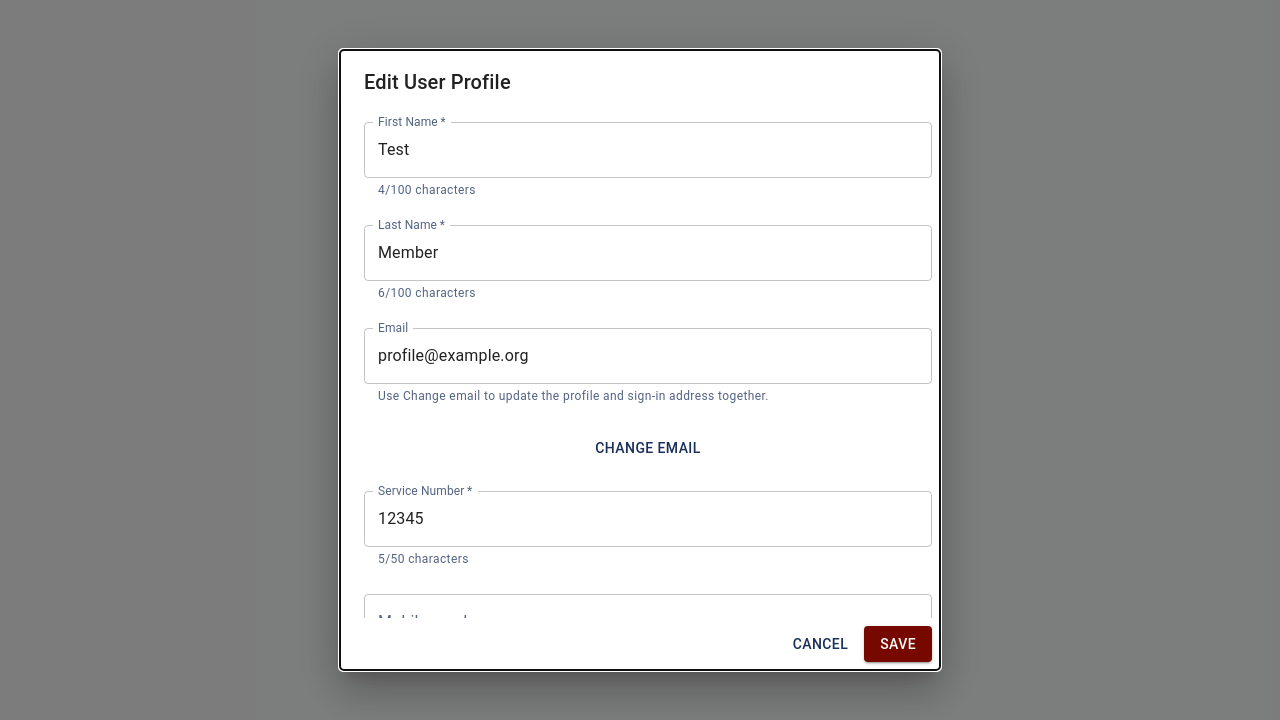
Test case: EditUserDialog email integration › uses the Auth address for conflict detection and refreshes the profile after changing it
Expected: the field showing "profile@example.org" is shown, [364,328,932,384]
Click the button "Change email".
click(648, 449)  # box [364,430,932,467]
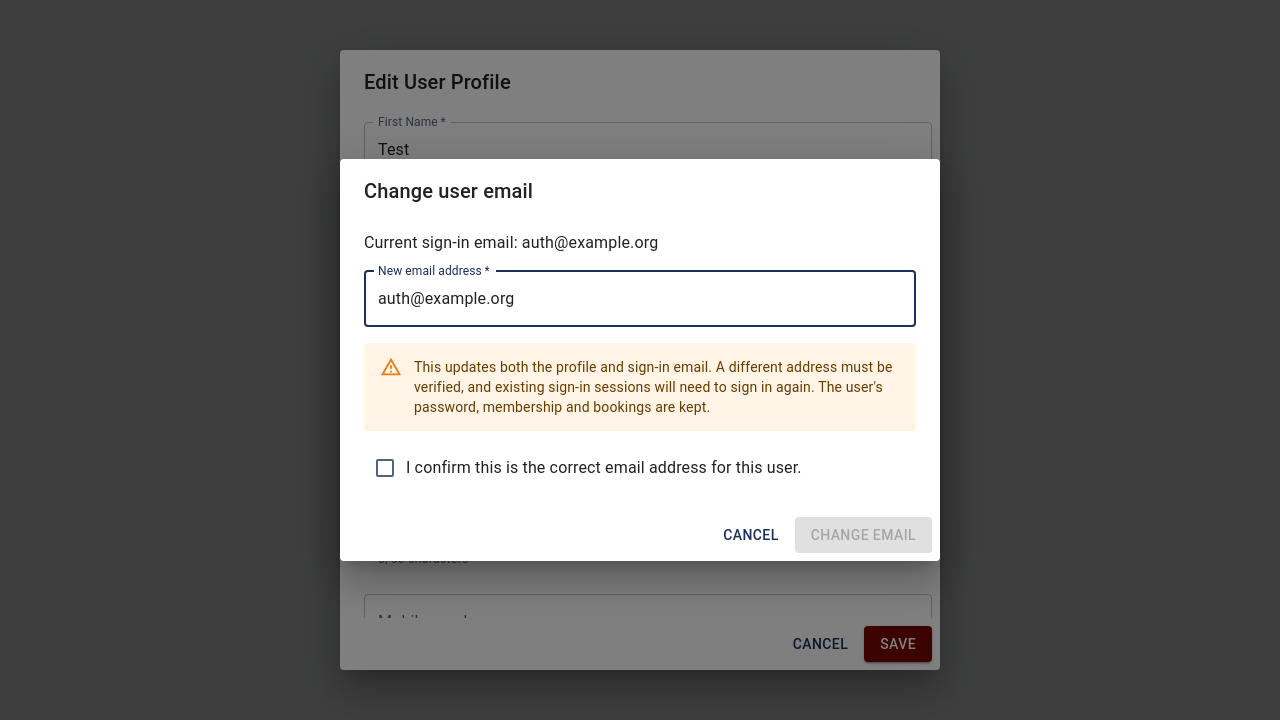
Expected: the text "Current sign-in email: auth@example.org" is shown, [364,233,658,252]
Replace the text in the field labelled "New email address *" with "new@example.org" at coordinates (640, 299), box [364,271,916,327]
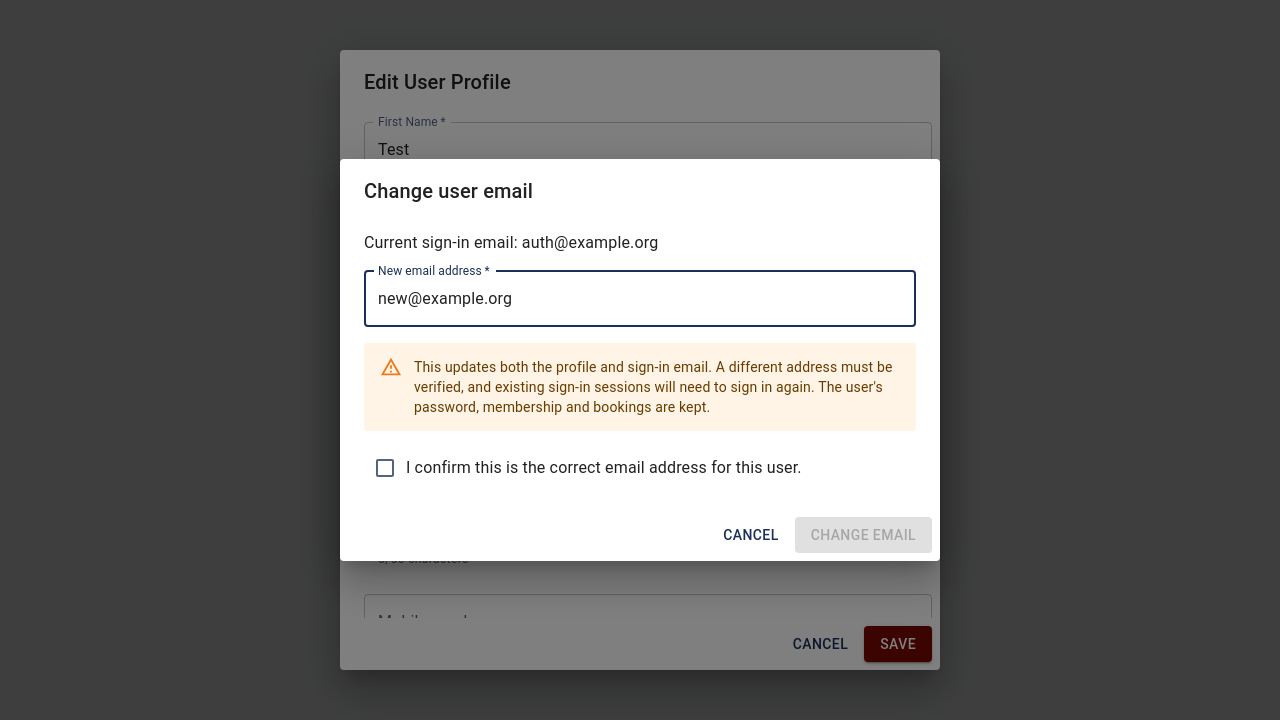
Click the checkbox.
click(587, 468)  # box [373,456,802,480]
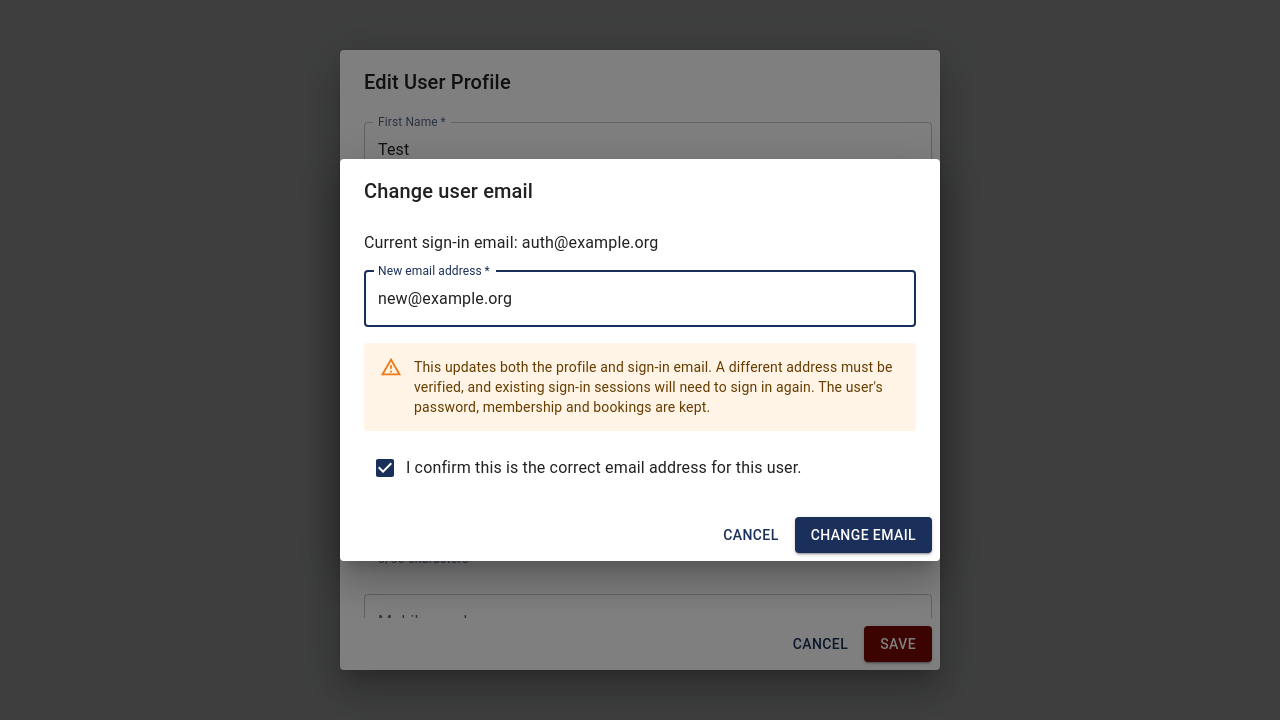
Click the button "Change email".
click(863, 535)  # box [795,517,932,553]
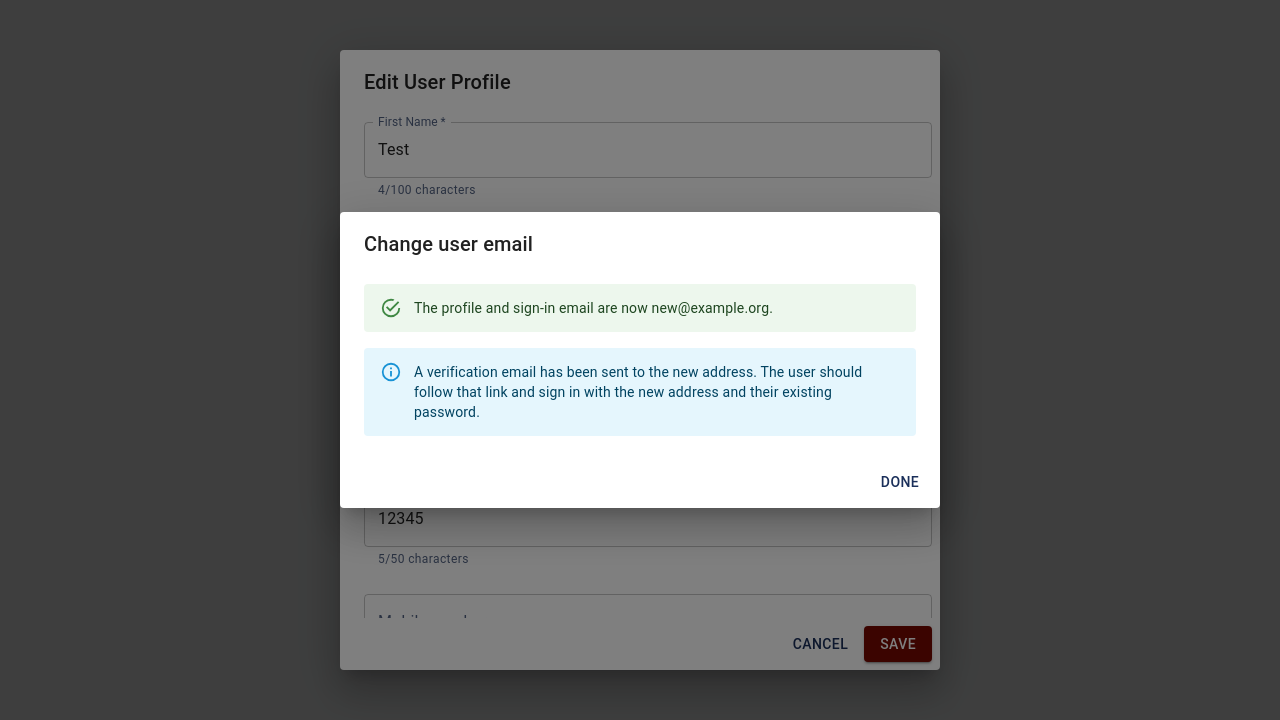
Expected: the text "The profile and sign-in email are now new@example.org." is shown, [414,300,773,316]
